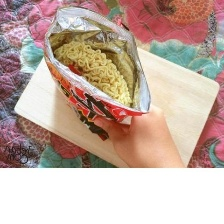snack: (36, 1, 161, 146)
